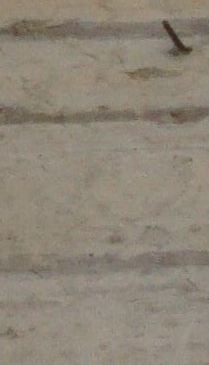Exposed reinforcement: (161, 19, 188, 52)
